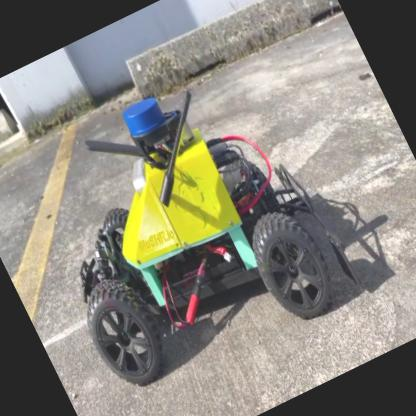mushr_car: (2, 39, 376, 415)
